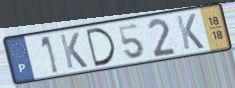1: (40, 34, 61, 75)
2: (146, 16, 178, 59)
5: (116, 22, 146, 61)
D: (83, 26, 118, 69)
K: (58, 31, 90, 71), (174, 12, 206, 52)
